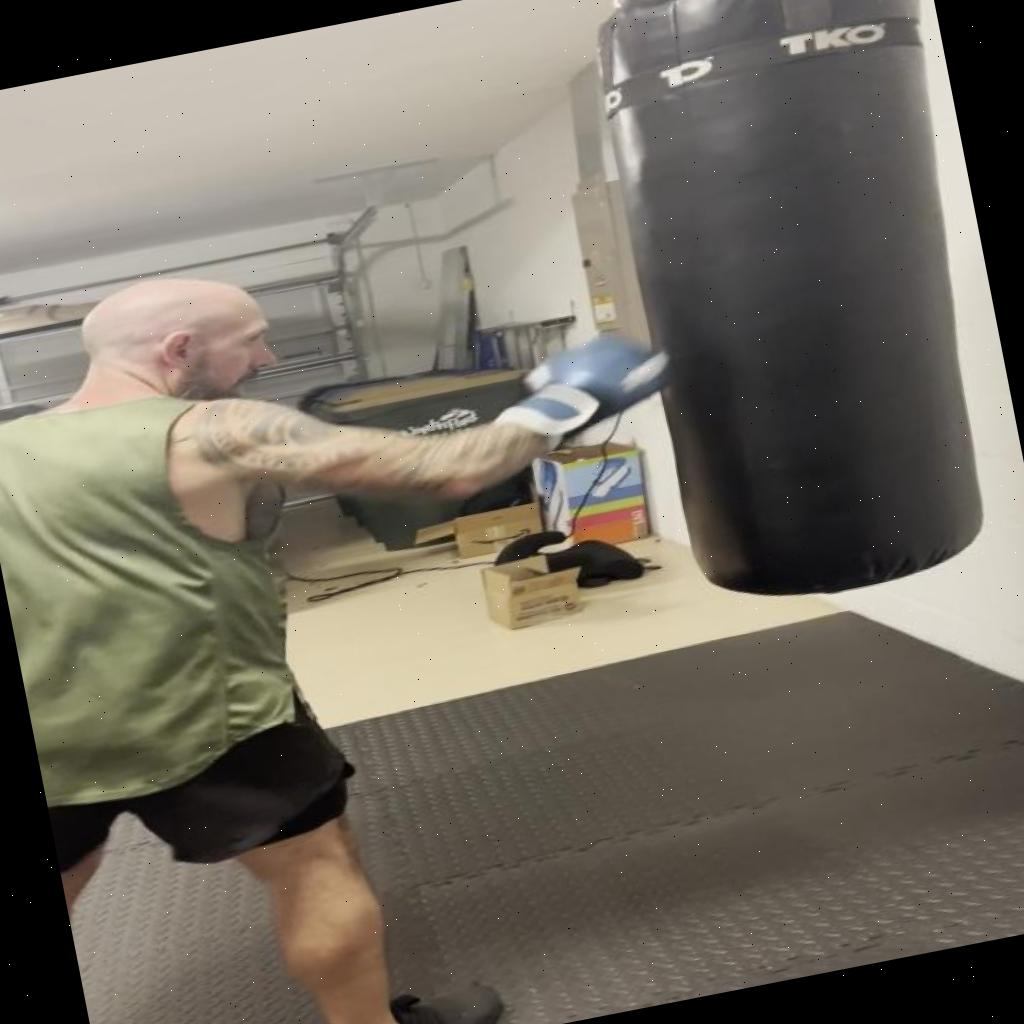bag: (578, 0, 1024, 607)
jab: (0, 152, 733, 705)
